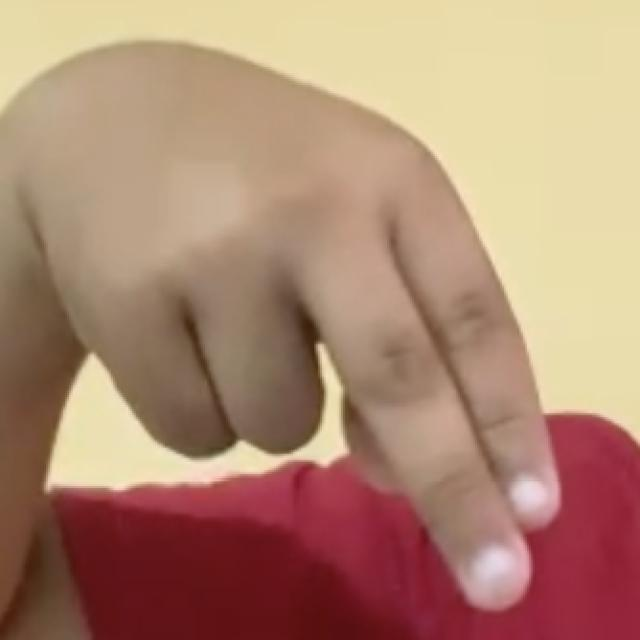N: (40, 19, 594, 620)
